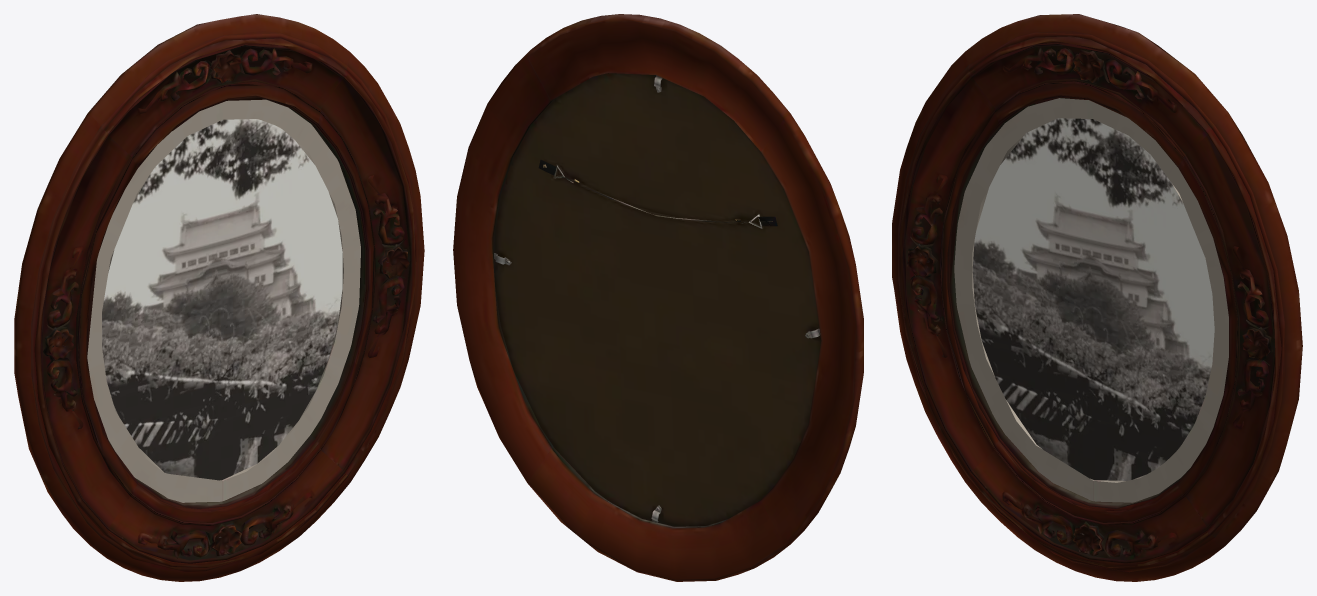
The model's file is frame-oval-photo.glb.
3 renders of one model, left to right at view 1: azimuth 30°, elevation 25°; view 2: azimuth 150°, elevation 25°; view 3: azimuth 330°, elevation 25°, orthographic.
Visible parts, largest first — view 1: hanging_picture_frame_03; view 2: hanging_picture_frame_03; view 3: hanging_picture_frame_03.
Part boxes in pixels (x1,y1,x2,y2): hanging_picture_frame_03: (14, 14, 424, 581); hanging_picture_frame_03: (453, 14, 863, 581); hanging_picture_frame_03: (892, 14, 1302, 581).
Bounding box in the file's own units: 0.3838 × 0.502 × 0.0207.
Materials: 2 (2 with a texture image).
